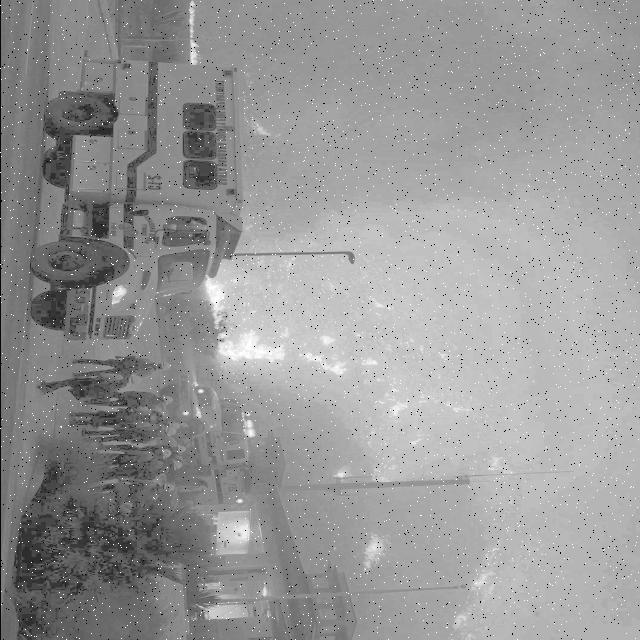asap: (217, 335, 356, 379), (383, 393, 489, 425), (347, 538, 390, 575), (199, 272, 230, 320), (187, 1, 207, 66), (485, 452, 516, 478), (471, 566, 500, 590), (452, 604, 469, 632)
